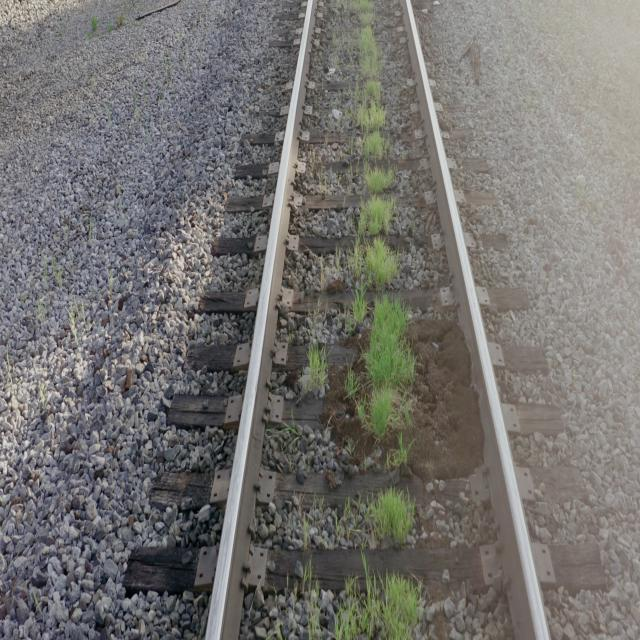Plant: (341, 18, 416, 467), (322, 569, 421, 640), (369, 487, 412, 547), (310, 347, 328, 389), (309, 591, 321, 638)
